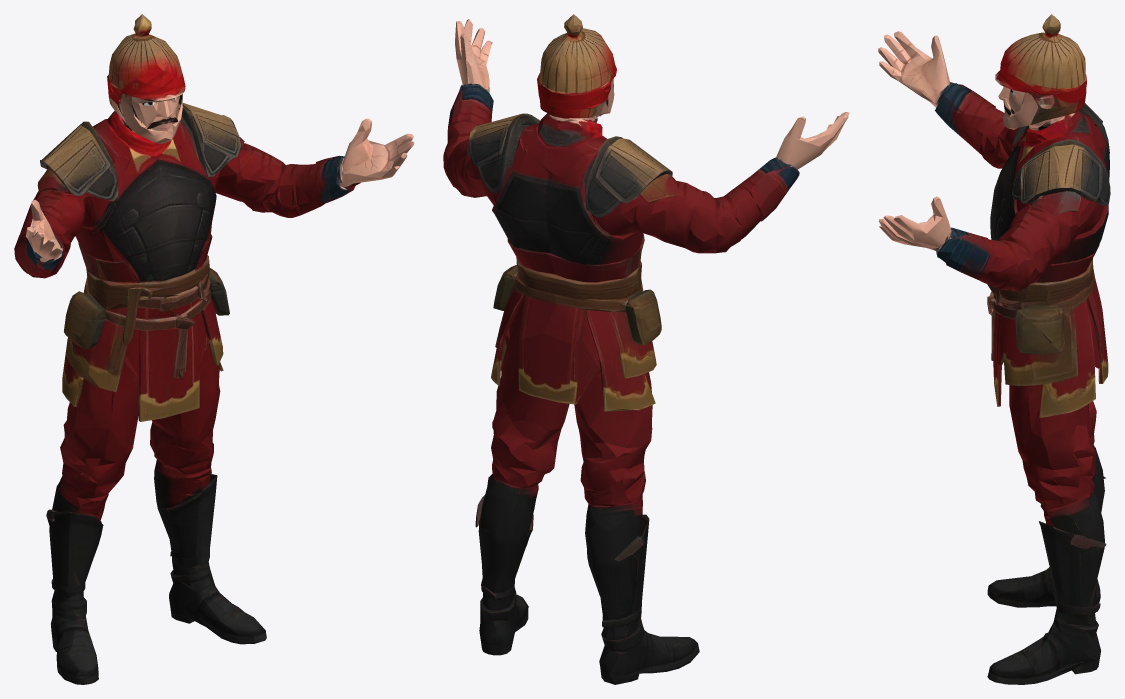
File: char_CV_cung.glb
3 renders of one model, left to right at view 1: azimuth 30°, elevation 25°; view 2: azimuth 150°, elevation 25°; view 3: azimuth 270°, elevation 25°, orthographic. The views are drawn at different scales.
Bounding box in the file's own units: 1.22 × 1.9 × 0.6407.
1 material, 1 textured.
